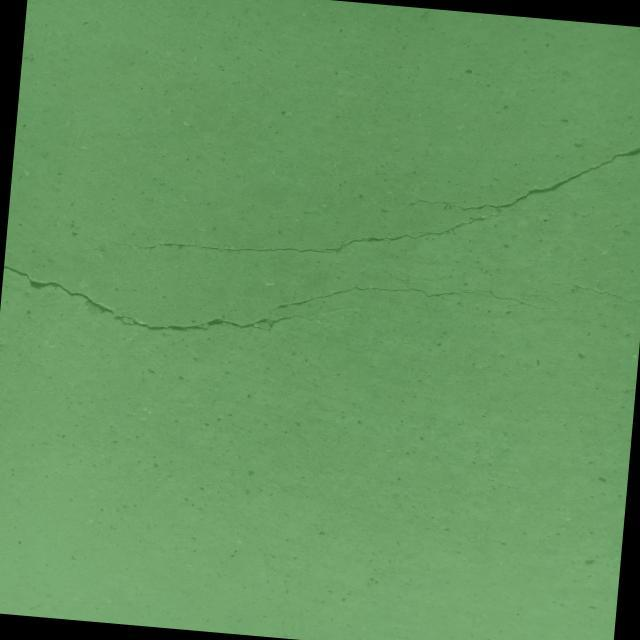crack: (70, 89, 640, 301), (0, 265, 305, 344), (270, 269, 586, 338), (524, 280, 640, 313), (292, 266, 318, 302), (356, 270, 409, 284), (326, 264, 346, 272)
